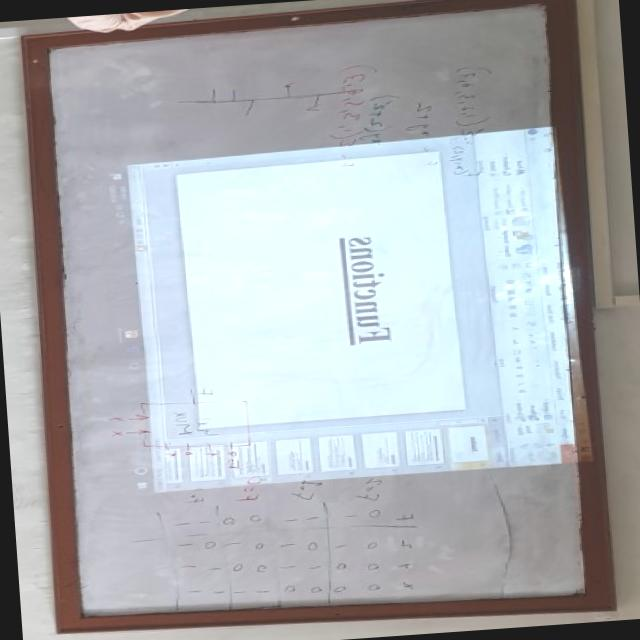Slide: (100, 127, 602, 493)
White-board: (32, 0, 607, 624)
